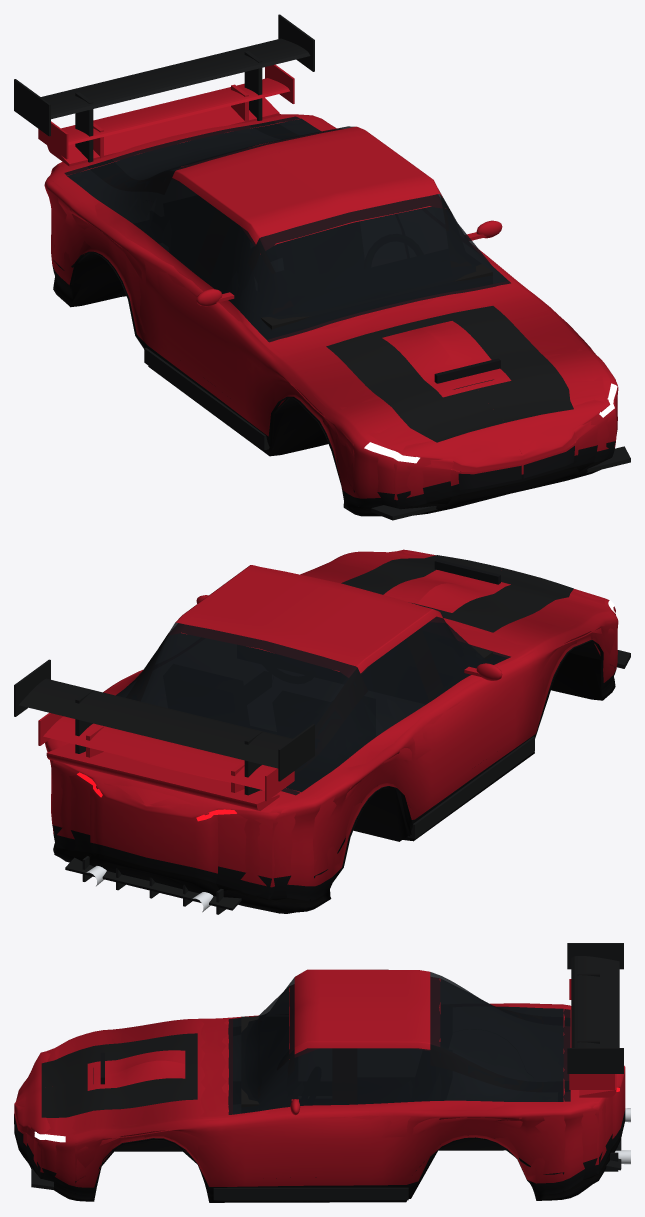
File: sr_porsche_930_turbo.glb
3 views of the same model, one above another, from view 1: azimuth 30°, elevation 25°; view 2: azimuth 150°, elevation 25°; view 3: azimuth 270°, elevation 25° (orthographic). The views are drawn at different scales.
Parts seen in each view (by area): view 1: body (×2), hood_3, spoiler_3, spoiler_2, hood_1, spoiler_1, bumper_1, grille, mirrors, hood_1_intake; view 2: body (×2), spoiler_3, spoiler_2, hood_3, bumper_1, spoiler_1, hood_1, hood_1_intake, mirrors; view 3: body (×2), hood_3, spoiler_3, bumper_1, hood_1, spoiler_2.
Boxes of the visible parts, box(x1,y1,x2,y2) form: body (×2): box(44, 114, 618, 516); hood_3: box(326, 306, 573, 442); spoiler_3: box(14, 14, 314, 162); spoiler_2: box(38, 64, 294, 159); hood_1: box(382, 321, 511, 397); spoiler_1: box(47, 97, 279, 166); bumper_1: box(144, 348, 630, 520); grille: box(458, 446, 574, 490); mirrors: box(196, 220, 502, 306); hood_1_intake: box(434, 358, 500, 383); body (×2): box(45, 549, 618, 913); spoiler_3: box(14, 659, 314, 795); spoiler_2: box(38, 712, 294, 801); hood_3: box(341, 555, 573, 632); bumper_1: box(65, 650, 630, 914); spoiler_1: box(46, 743, 279, 810); hood_1: box(383, 570, 510, 612); hood_1_intake: box(434, 559, 500, 584); mirrors: box(196, 595, 502, 680); body (×2): box(14, 969, 625, 1202); hood_3: box(41, 1033, 197, 1117); spoiler_3: box(567, 943, 623, 1073); bumper_1: box(31, 1138, 621, 1200); hood_1: box(87, 1050, 185, 1090); spoiler_2: box(569, 979, 614, 1089).
Size of the model in its own units: 2.01 by 1.21 by 4.33.
